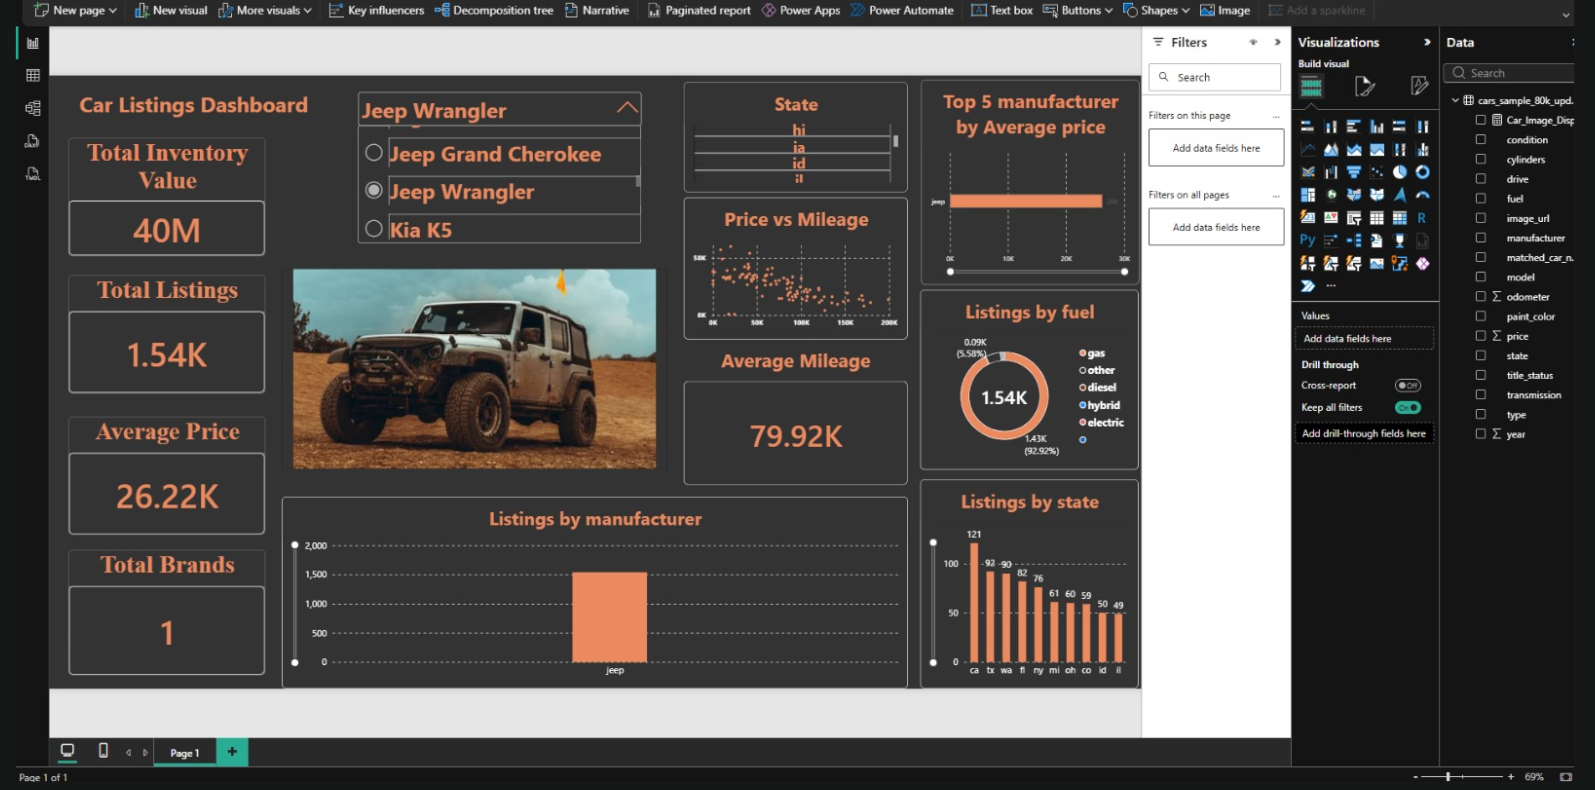

This screenshot's page, from the dashboard's own definition file:
{"tool":"powerbi","page":{"name":"Page 1","canvas":[1920,1080],"ordinal":0},"visuals":[{"type":"cardVisual","title":"Total Inventory Value","fields":{"Data":["Sum(cars_sample_80k_updated.price)"]},"box":[33.1,109.4,346.9,208.7],"z":0},{"type":"cardVisual","title":"Average Price","fields":{"Data":["Avg(cars_sample_80k_updated.price)"]},"box":[33.1,600.2,347,208.2],"z":1000},{"type":"cardVisual","title":"Total Brands","fields":{"Data":["Count(cars_sample_80k_updated.manufacturer)"]},"box":[33.1,834.8,347,221.4],"z":2000},{"type":"cardVisual","title":"Total Listings","fields":{"Data":["CountNonNull(cars_sample_80k_updated.price)"]},"box":[33.1,351.2,346.9,208.7],"z":3000},{"type":"slicer","fields":{"Values":["cars_sample_80k_updated.matched_car_name"]},"box":[538.3,24.5,508.1,132.4],"z":4000},{"type":"image","box":[408.8,339.7,677.9,352.6],"z":5000},{"type":"textbox","box":[47.5,24.5,413.1,61.9],"z":6000},{"type":"clusteredBarChart","title":"Top 5 manufacturer by Average price","fields":{"Category":["cars_sample_80k_updated.manufacturer"],"Y":["Avg(cars_sample_80k_updated.price)"]},"box":[1532.8,7.2,384.3,361.3],"z":7000},{"type":"donutChart","title":"Listings by fuel","fields":{"Category":["cars_sample_80k_updated.fuel"],"Y":["CountNonNull(cars_sample_80k_updated.price)"]},"box":[1531.4,377.1,384.3,316.6],"z":8000},{"type":"clusteredColumnChart","title":"Listings by state","fields":{"Category":["cars_sample_80k_updated.state"],"Y":["CountNonNull(cars_sample_80k_updated.price)"]},"box":[1531.4,711,384.3,368.5],"z":9000},{"type":"clusteredColumnChart","title":"Listings by manufacturer","fields":{"Category":["cars_sample_80k_updated.manufacturer"],"Y":["CountNonNull(cars_sample_80k_updated.price)"]},"box":[408.8,741.2,1101,338.2],"z":10000},{"type":"listSlicer","title":"State","fields":{"Values":["cars_sample_80k_updated.state"]},"box":[1115.4,11.5,394.4,194.3],"z":11000},{"type":"scatterChart","title":"Price vs Mileage","fields":{"Category":["cars_sample_80k_updated.model"],"X":["Avg(cars_sample_80k_updated.odometer)"],"Y":["Avg(cars_sample_80k_updated.price)"]},"box":[1115.4,214.5,394.4,250.4],"z":12000},{"type":"cardVisual","title":"Average Mileage","fields":{"Data":["Avg(cars_sample_80k_updated.odometer)"]},"box":[1115.4,477.8,394.4,243.2],"z":13000}]}

Visuals, with their boxes on the page's 1920x1080 design canvas (x1, y1, x2, y2). These are canvas units, not pixel positions in the 1595x790 screenshot, which may show the page scaled, cropped or inside an application window:
"Total Inventory Value" cardVisual: locate(33, 109, 380, 318)
"Average Price" cardVisual: locate(33, 600, 380, 808)
"Total Brands" cardVisual: locate(33, 835, 380, 1056)
"Total Listings" cardVisual: locate(33, 351, 380, 560)
slicer - cars_sample_80k_updated.matched_car_name: locate(538, 24, 1046, 157)
image: locate(409, 340, 1087, 692)
textbox: locate(48, 24, 461, 86)
"Top 5 manufacturer by Average price" clusteredBarChart: locate(1533, 7, 1917, 368)
"Listings by fuel" donutChart: locate(1531, 377, 1916, 694)
"Listings by state" clusteredColumnChart: locate(1531, 711, 1916, 1080)
"Listings by manufacturer" clusteredColumnChart: locate(409, 741, 1510, 1079)
"State" listSlicer: locate(1115, 12, 1510, 206)
"Price vs Mileage" scatterChart: locate(1115, 214, 1510, 465)
"Average Mileage" cardVisual: locate(1115, 478, 1510, 721)
